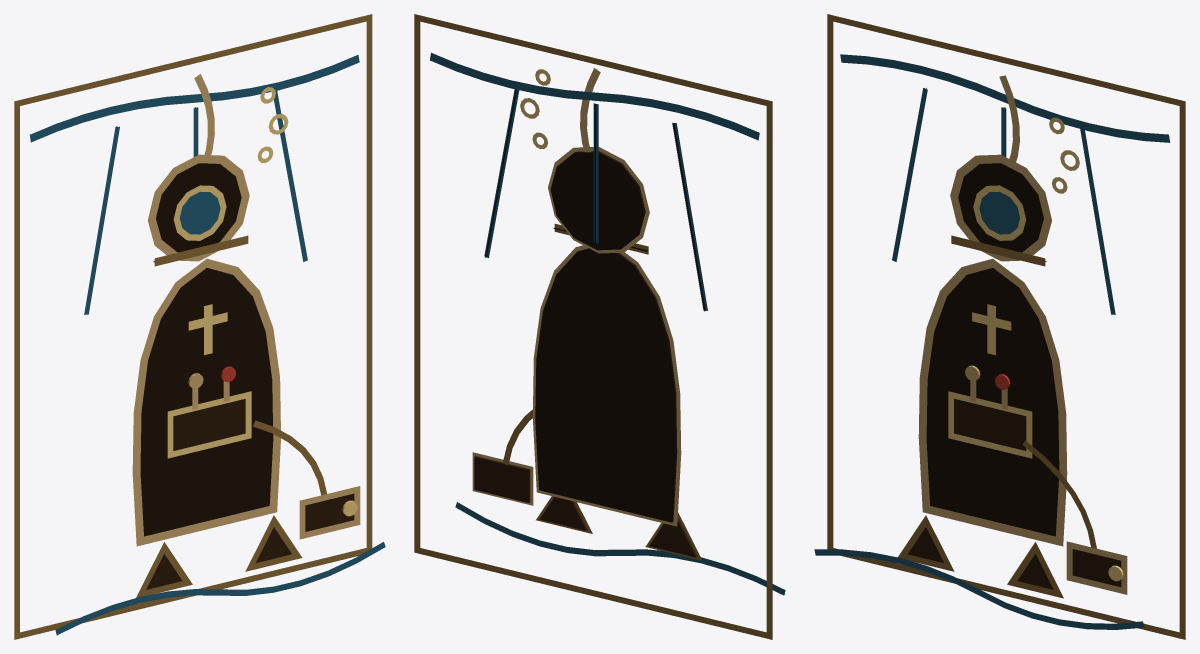
File: player-deacon-diver.glb
3 views of the same model, side by side, from view 1: azimuth 30°, elevation 25°; view 2: azimuth 150°, elevation 25°; view 3: azimuth 330°, elevation 25° (orthographic).
Visible parts, largest first — view 1: player-deacon-diver; view 2: player-deacon-diver; view 3: player-deacon-diver.
Part boxes in pixels (x1=…): player-deacon-diver: x1=14, y1=14, x2=385, y2=639; player-deacon-diver: x1=414, y1=14, x2=785, y2=639; player-deacon-diver: x1=814, y1=14, x2=1185, y2=639.
Bounding box in the file's own units: 0.2614 × 0.3757 × 0.0343.
